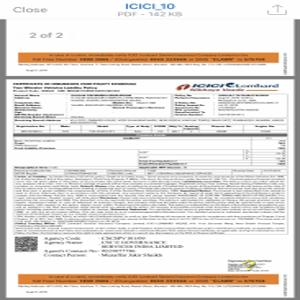image: (175, 80, 282, 94)
text: (16, 93, 169, 119), (174, 94, 280, 117), (11, 81, 139, 92)
